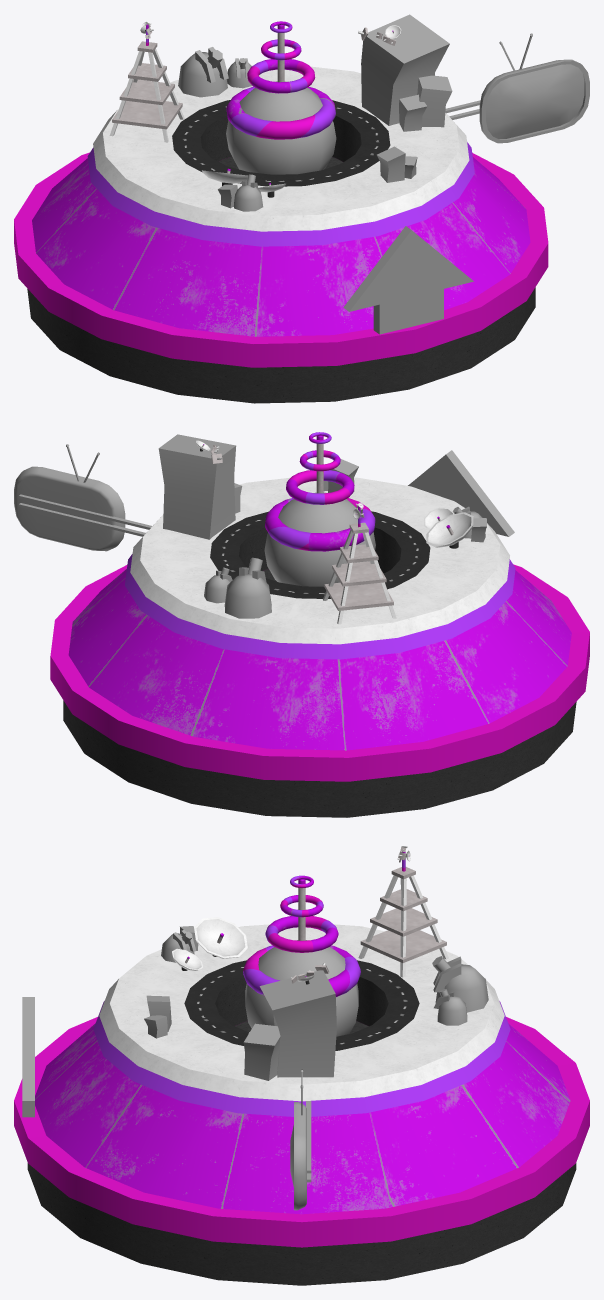
Rendered from FBX button.fbx.
3 renders of one model, top to bottom at view 1: azimuth 30°, elevation 25°; view 2: azimuth 150°, elevation 25°; view 3: azimuth 270°, elevation 25°, orthographic. The views are drawn at different scales.
Visible parts, largest first — view 1: Base_trim, rotate_2_trim, Static_NonTrims, Screen4, Arrow, Rotate_1_Trim; view 2: Base_trim, rotate_2_trim, Static_NonTrims, Screen4, Rotate_1_Trim, Arrow; view 3: Base_trim, rotate_2_trim, Static_NonTrims, Rotate_1_Trim, Screen4, Arrow.
Boxes of the visible parts, x1,y1,x2,y2 form: Base_trim: [27, 21, 535, 403]; rotate_2_trim: [14, 152, 548, 367]; Static_NonTrims: [178, 14, 452, 211]; Screen4: [445, 33, 589, 143]; Arrow: [343, 226, 473, 334]; Rotate_1_Trim: [87, 142, 474, 246]; Base_trim: [63, 432, 576, 817]; rotate_2_trim: [50, 564, 589, 781]; Static_NonTrims: [158, 434, 486, 618]; Screen4: [14, 444, 152, 551]; Rotate_1_Trim: [125, 554, 515, 659]; Arrow: [408, 450, 514, 536]; Base_trim: [27, 846, 576, 1285]; rotate_2_trim: [14, 1017, 589, 1247]; Static_NonTrims: [144, 926, 488, 1080]; Rotate_1_Trim: [93, 1001, 510, 1116]; Screen4: [290, 1069, 311, 1210]; Arrow: [22, 997, 34, 1117].
Size of the model in its own units: 233 by 112 by 202.
